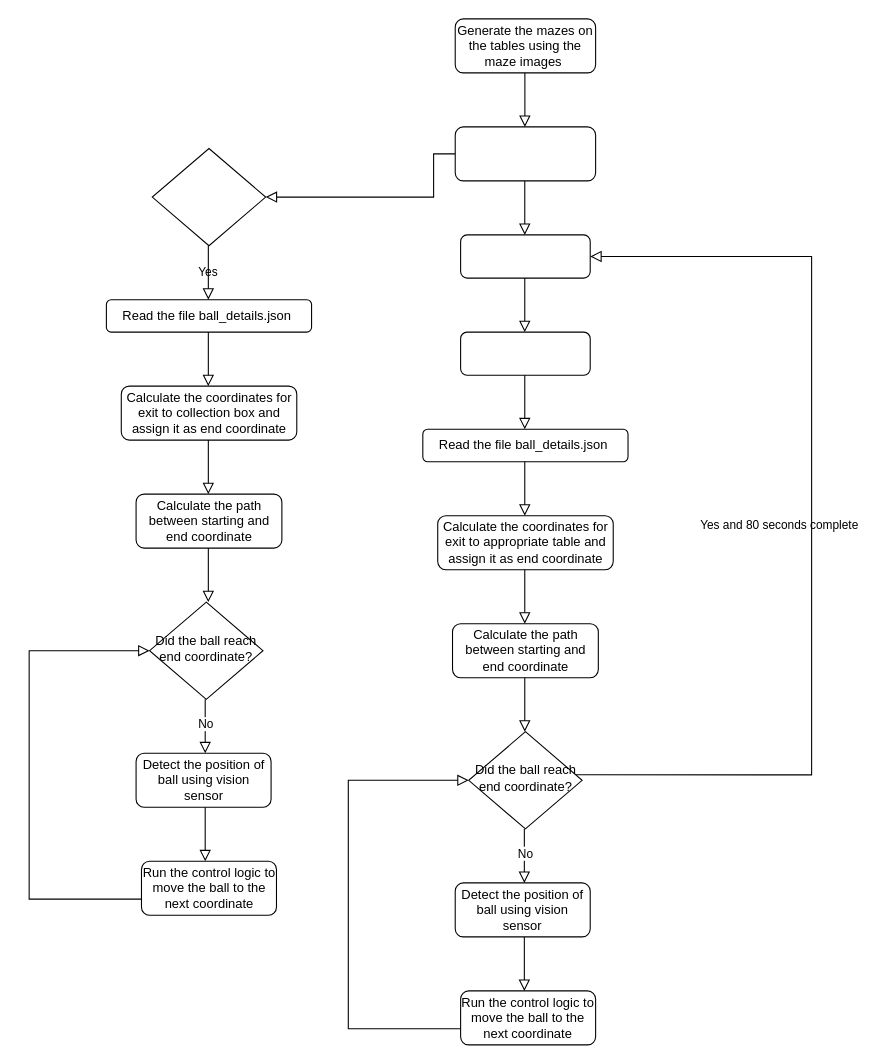
The diagram is 876 pixels wide and 1064 high, and some of its shapes have lost their labels. Here are the shapes that lost their labels. From the top down, the centre of each, then its label:
At point 525,153: "Simulation starts for 480 seconds".
At point 208,196: "Check if a ball entered second table using vision sensor".
At point 525,256: "Ball is dropped by the dispenser to T4".
At point 525,353: "Detect the colour using vision sensor".
